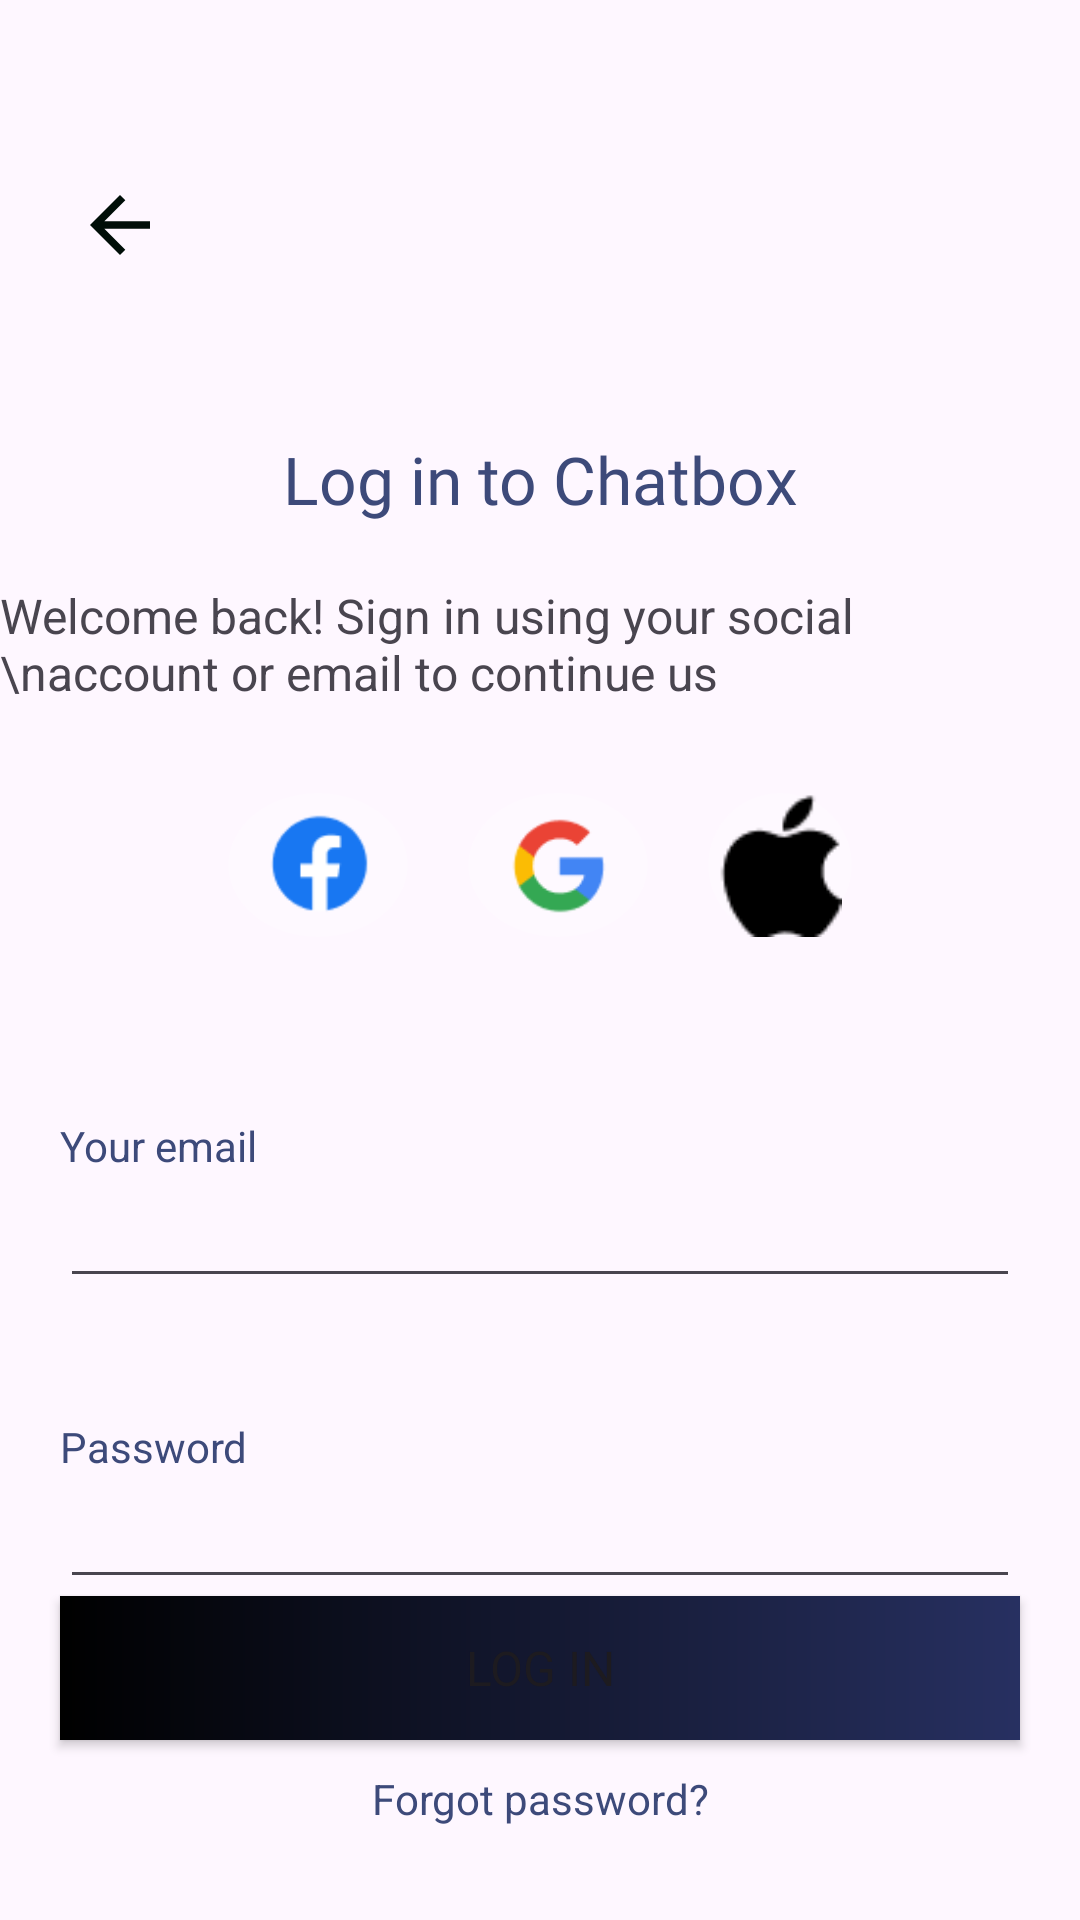

Screen size 1080x1920. Icon name, then its box in pixels as [left=x1, top=y1, right=x2, bottom=y2]:
arrow back: [left=90, top=195, right=150, bottom=255]
